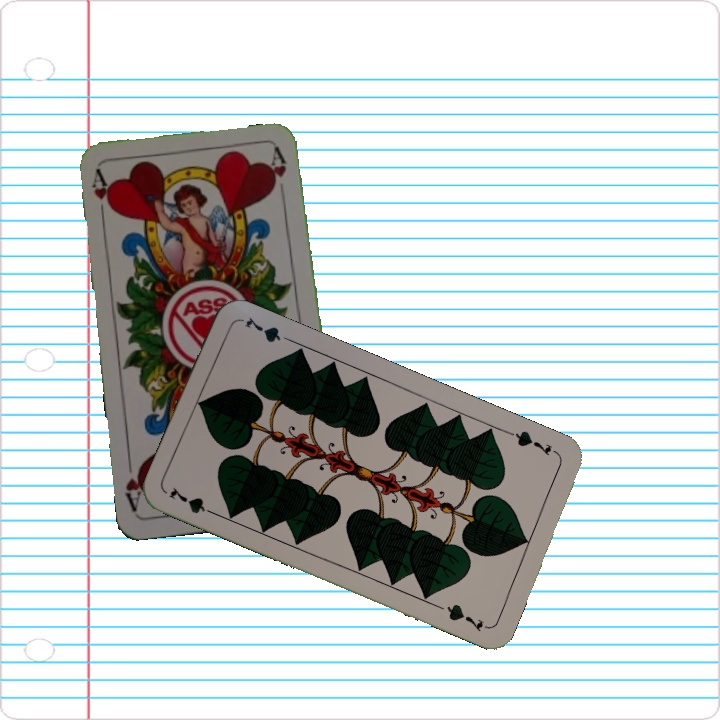G7: (165, 483, 221, 519), (505, 426, 561, 459)
HA: (88, 166, 117, 226)
